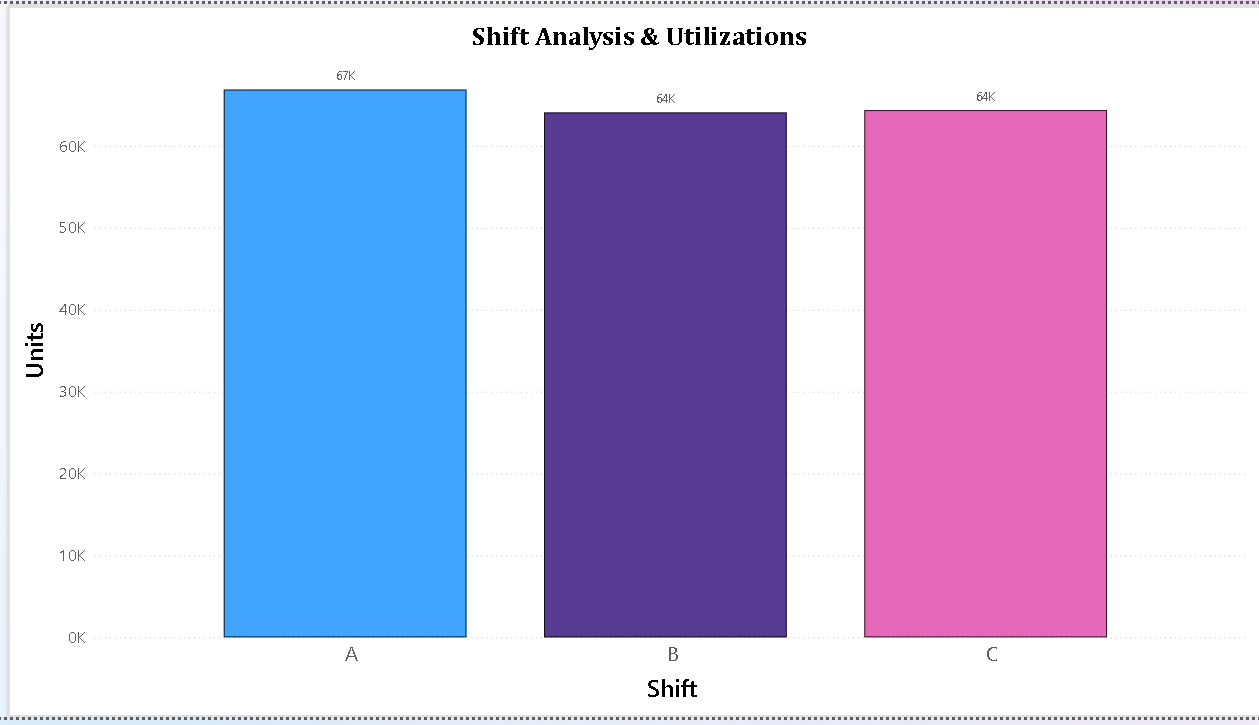

The page's visual inventory and layout, read from the dashboard file:
{"tool":"powerbi","page":{"name":"Shift Analysis & Utilizations","canvas":[1280,720],"ordinal":4},"visuals":[{"type":"clusteredColumnChart","title":"Shift Analysis & Utilizations","fields":{"Category":["Sheet1.Shift"],"Y":["Sum(Sheet1.Units)"]},"box":[10.1,0,1269.9,721],"z":0}]}

Visuals, with their boxes in screenshot pixels (x1, y1, x2, y2), scaled from the page's 1280x720 canvas onto the 1259x725 screenshot:
"Shift Analysis & Utilizations" clusteredColumnChart: region(10, 0, 1258, 724)
